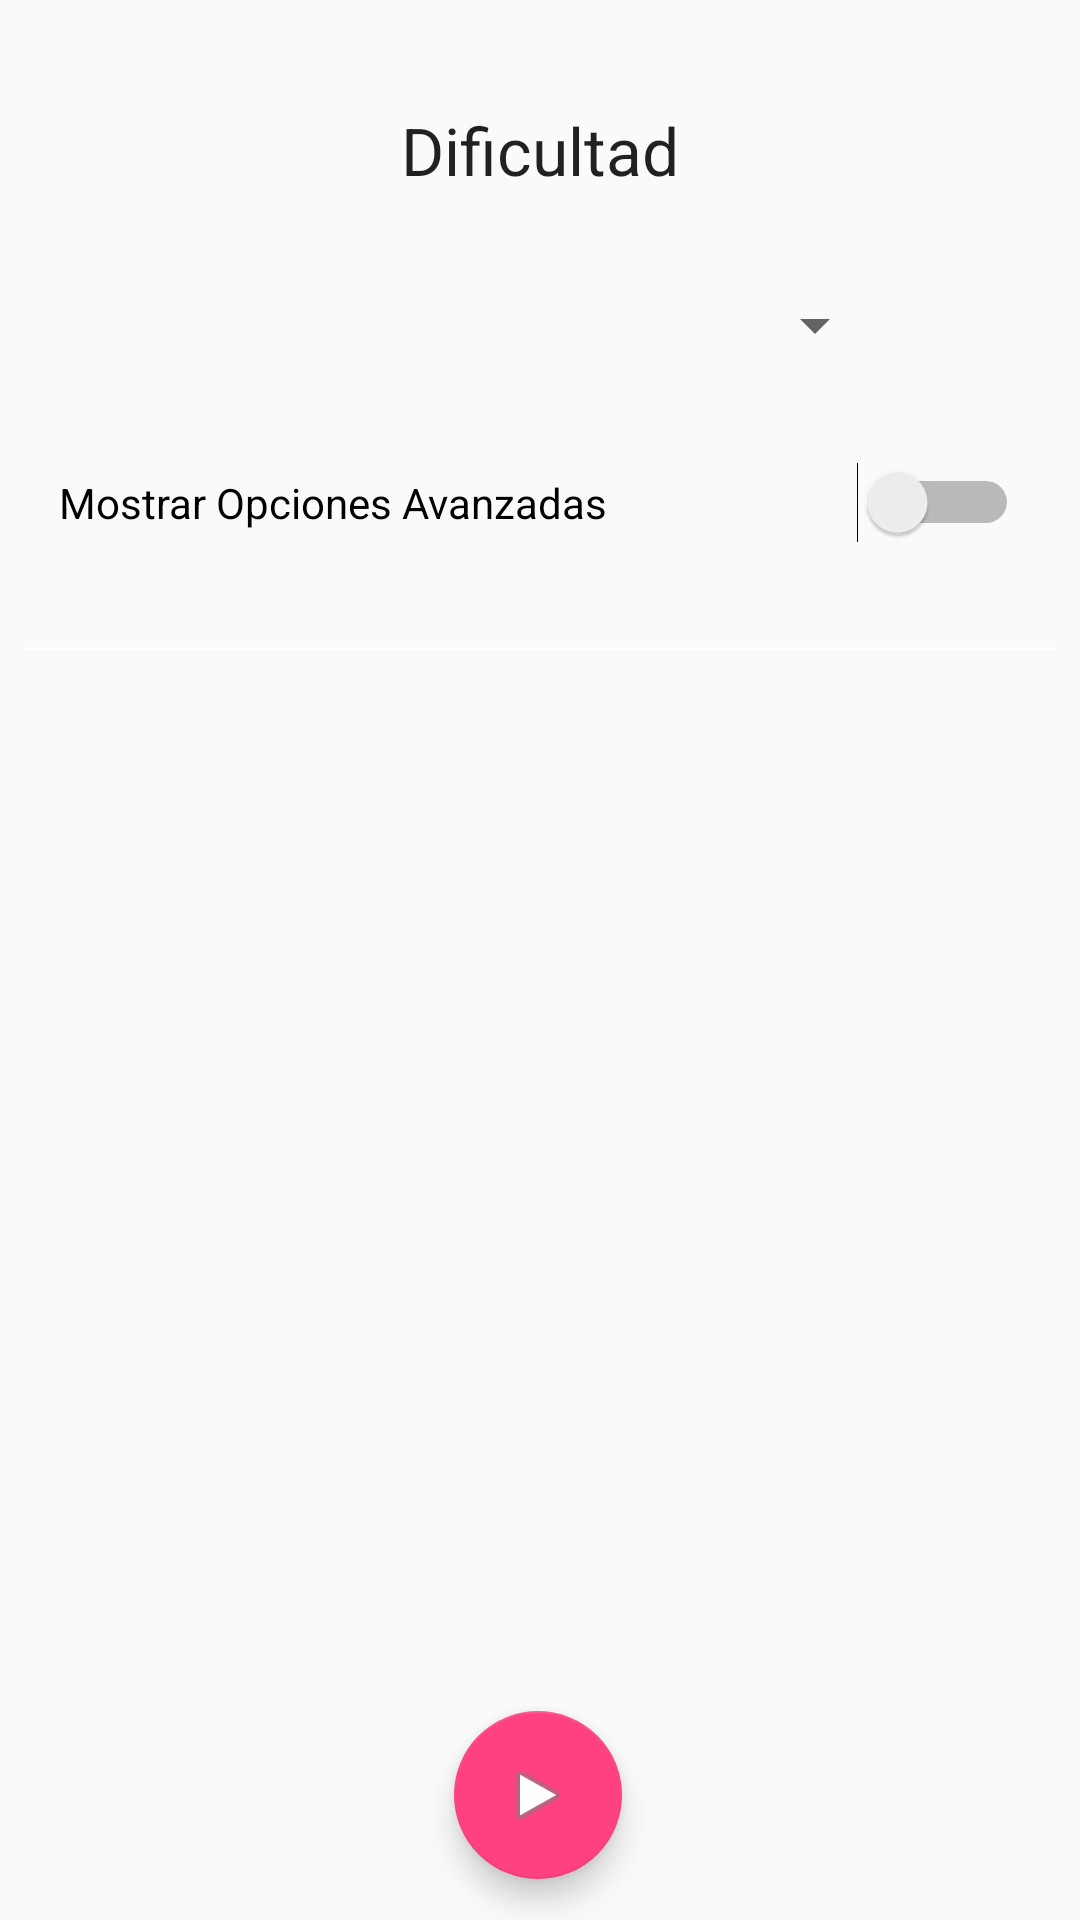

Icon bounding boxes for this 1080*1920 phone screenshot, format BBox(x1, y1, x2, y2):
play: BBox(454, 1711, 622, 1879)
